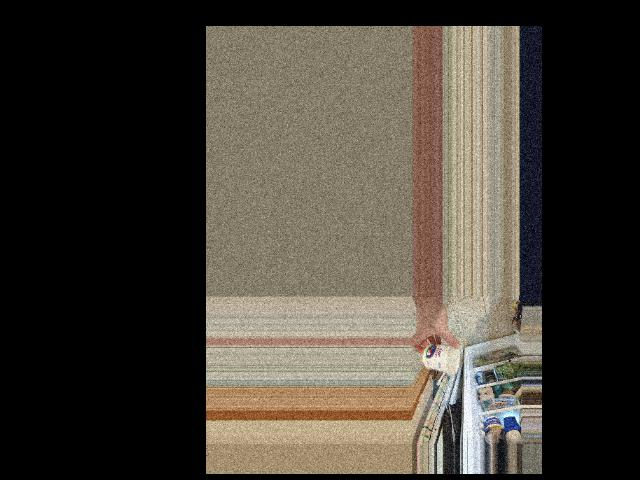cotage: (421, 339, 460, 375)
